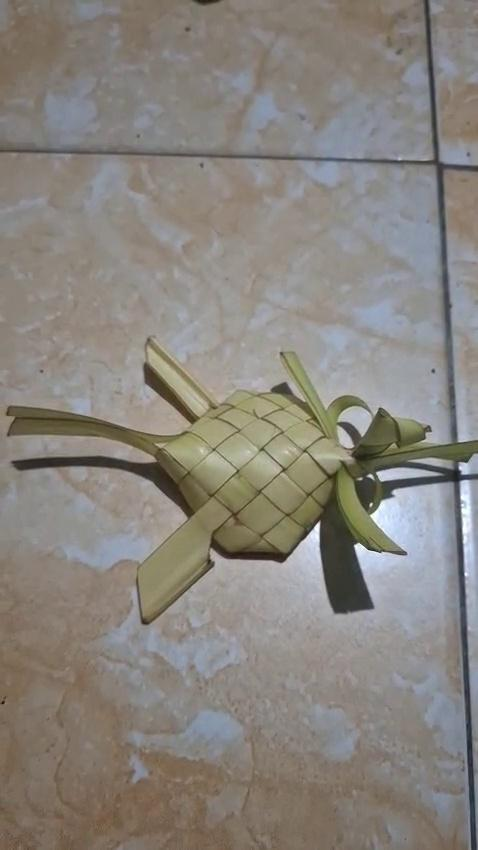Tipat Dampulan: (6, 334, 472, 628)
